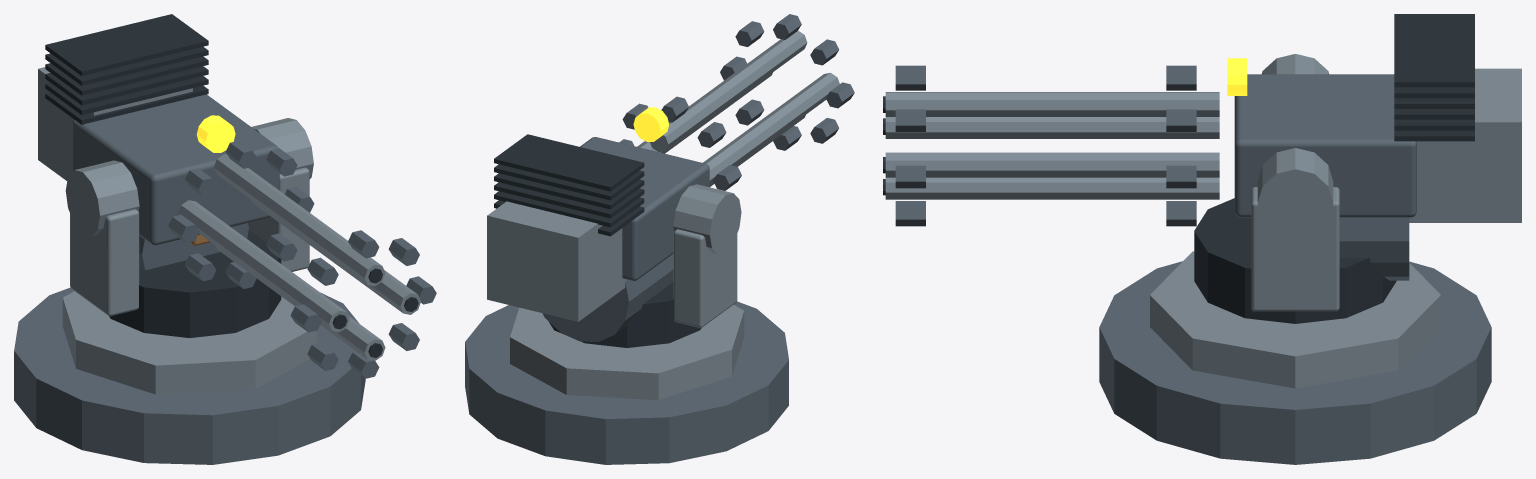
Rendered from rotor_t2_d0.glb.
The picture shows the model from 3 angles, left to right: view 1: azimuth 30°, elevation 25°; view 2: azimuth 150°, elevation 25°; view 3: azimuth 270°, elevation 25°; orthographic projection. The views are drawn at different scales.
Visible parts, largest first — view 1: BASE_ARMOR_GEOMETRY, RECOIL_ARMOR_GEOMETRY, ROTOR_ARMOR_GEOMETRY, YAW_ARMOR_GEOMETRY, RECOIL_SIGNAL_GEOMETRY; view 2: BASE_ARMOR_GEOMETRY, RECOIL_ARMOR_GEOMETRY, ROTOR_ARMOR_GEOMETRY, YAW_ARMOR_GEOMETRY, RECOIL_SIGNAL_GEOMETRY; view 3: BASE_ARMOR_GEOMETRY, RECOIL_ARMOR_GEOMETRY, ROTOR_ARMOR_GEOMETRY, YAW_ARMOR_GEOMETRY, RECOIL_SIGNAL_GEOMETRY.
Part boxes in pixels (x1,y1,x2,y2): BASE_ARMOR_GEOMETRY: [14, 287, 365, 464]; RECOIL_ARMOR_GEOMETRY: [38, 14, 313, 270]; ROTOR_ARMOR_GEOMETRY: [168, 140, 436, 378]; YAW_ARMOR_GEOMETRY: [70, 167, 309, 337]; RECOIL_SIGNAL_GEOMETRY: [196, 115, 235, 152]; BASE_ARMOR_GEOMETRY: [465, 301, 788, 464]; RECOIL_ARMOR_GEOMETRY: [487, 134, 741, 341]; ROTOR_ARMOR_GEOMETRY: [619, 14, 854, 190]; YAW_ARMOR_GEOMETRY: [549, 229, 737, 347]; RECOIL_SIGNAL_GEOMETRY: [633, 107, 669, 141]; BASE_ARMOR_GEOMETRY: [1099, 251, 1491, 464]; RECOIL_ARMOR_GEOMETRY: [1234, 14, 1521, 280]; ROTOR_ARMOR_GEOMETRY: [883, 65, 1219, 226]; YAW_ARMOR_GEOMETRY: [1194, 187, 1396, 323]; RECOIL_SIGNAL_GEOMETRY: [1227, 58, 1247, 95].
Size of the model in its own units: 1.55 by 1.46 by 2.53.
